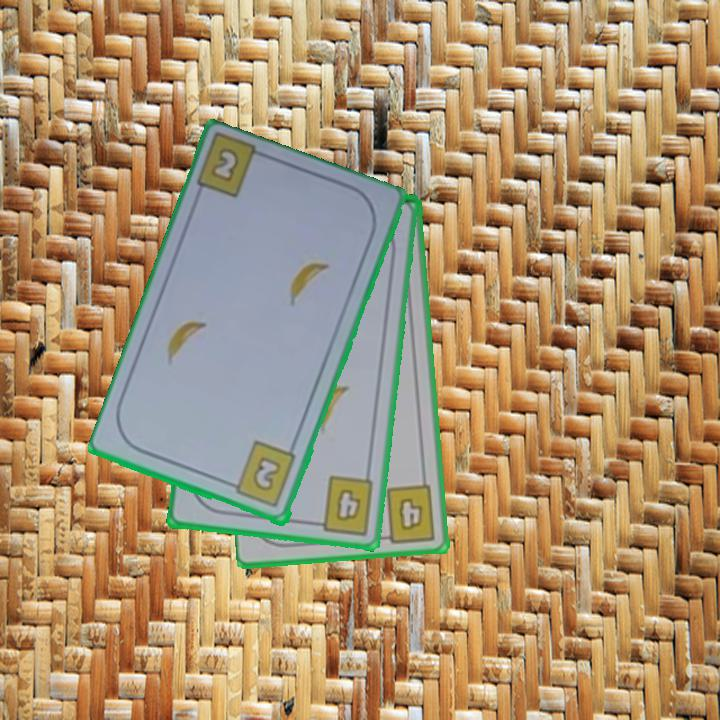2b: (224, 438, 299, 511), (207, 144, 243, 186)
4b: (308, 472, 377, 538), (376, 481, 438, 546)
